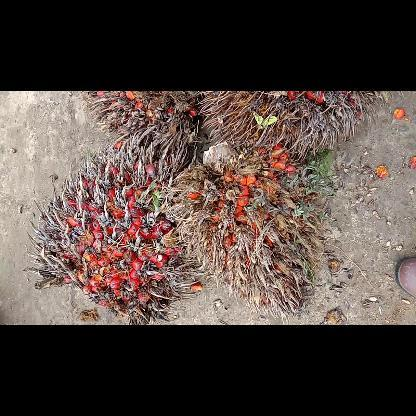Terlalu masak: (160, 134, 328, 323), (28, 144, 200, 324), (195, 90, 392, 162)
